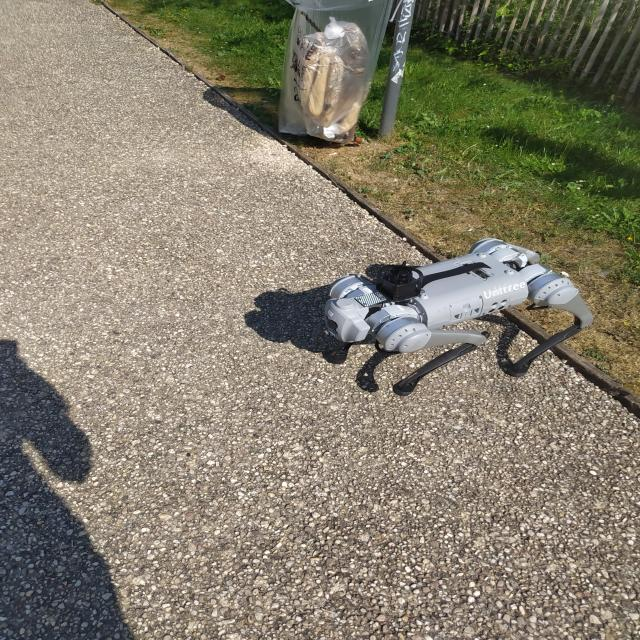unitree-go1-robot: (306, 232, 596, 406)
